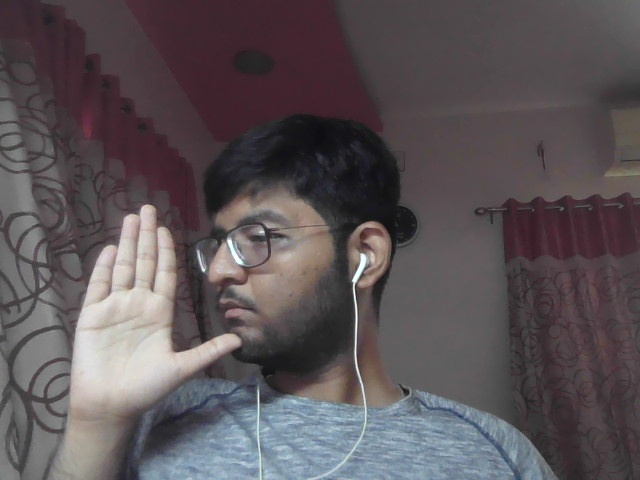માતા: (51, 190, 257, 417)
